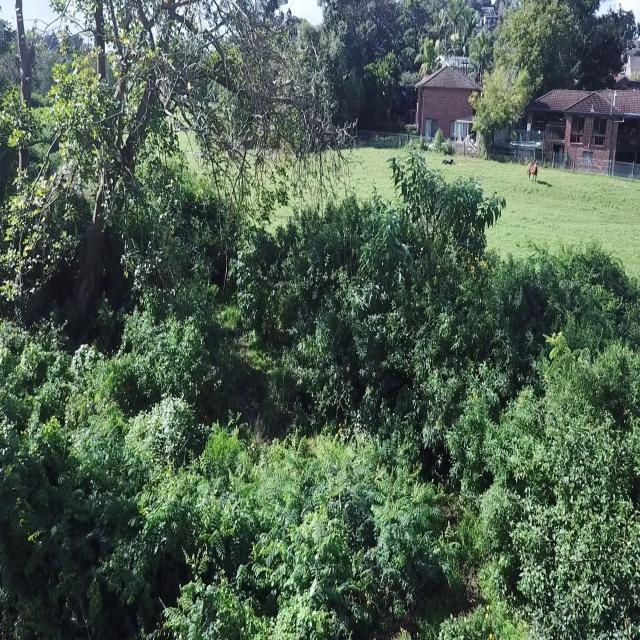Mysore-Thorn-Weed: (254, 496, 356, 640), (368, 445, 464, 594), (134, 460, 235, 566), (153, 541, 238, 640), (199, 419, 269, 524), (536, 318, 604, 406), (79, 364, 130, 471), (331, 444, 378, 545), (268, 440, 326, 497), (521, 234, 582, 284)
